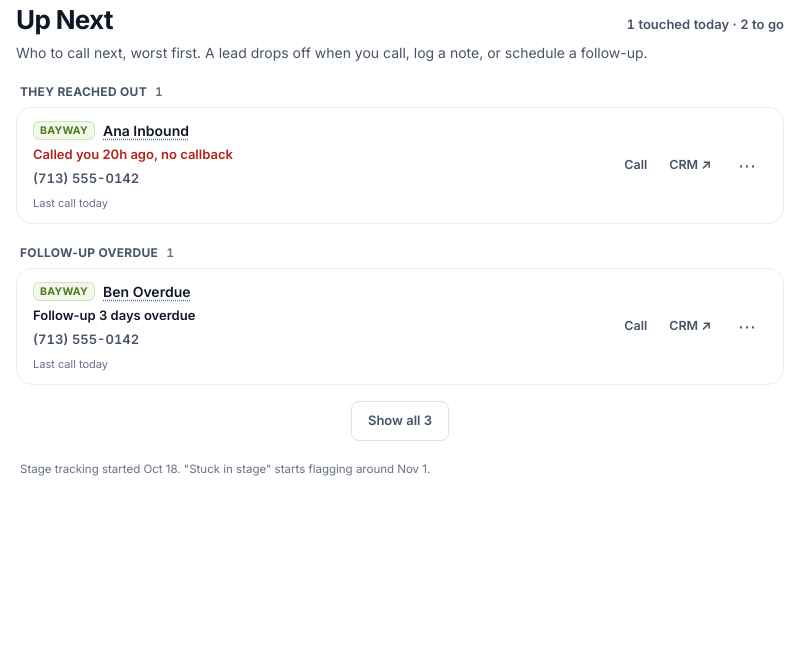
Test: Up Next page › groups by bucket, caps the list, and shows the rest on demand
Expected: the text "Cy Quiet" is not shown
Click the button "Show all 3" at (400, 421), box [351,401,449,441]
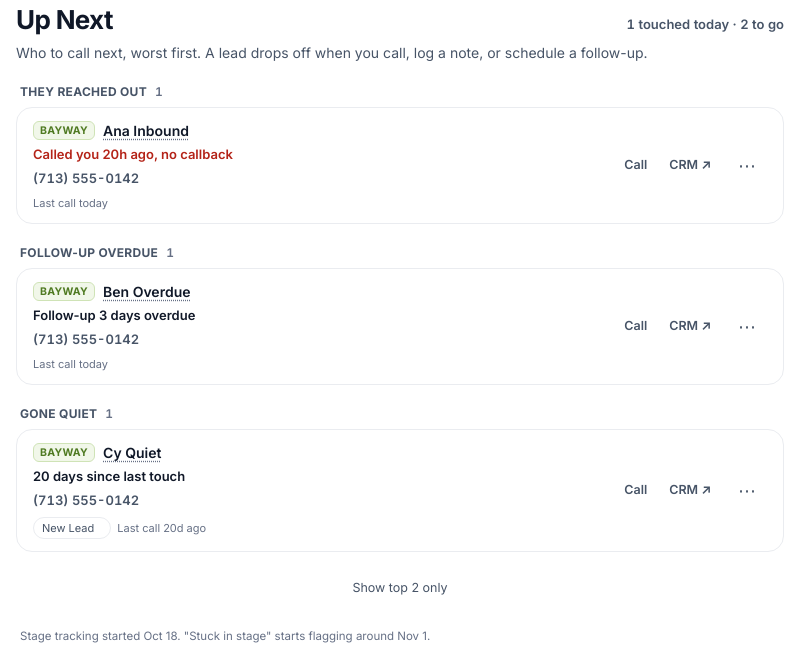
Expected: the text "Cy Quiet" is shown, [103,442,161,463]
Expected: the text "20 days since last touch" is shown, [33,468,185,484]
